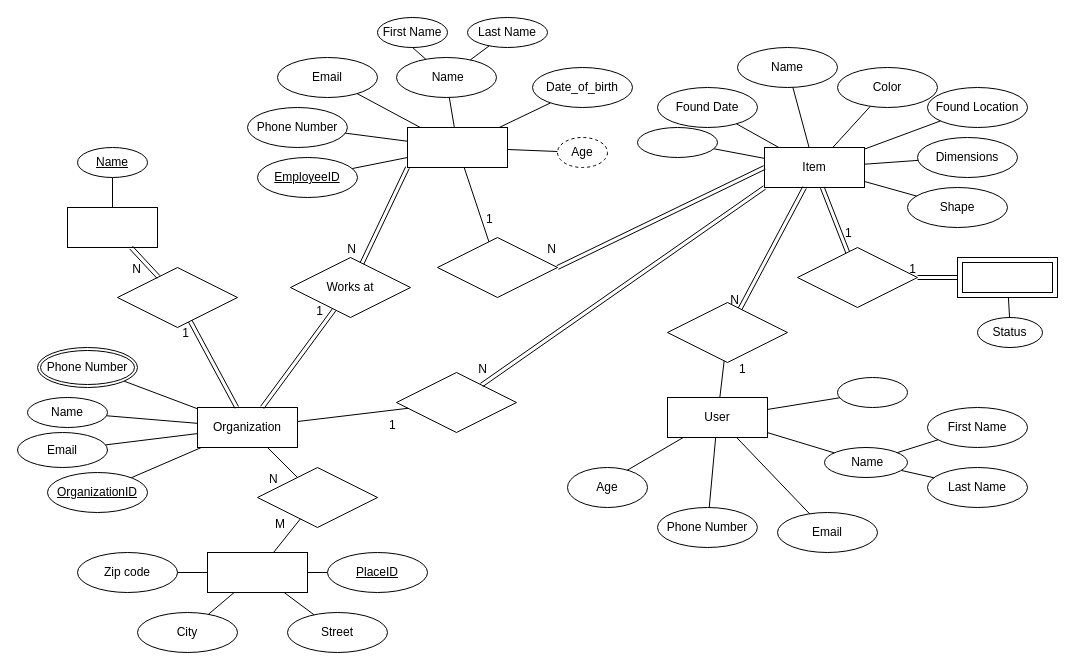
Some shapes in this 1075 by 670 pixel diagram are drawn without their labels. Here are the shapes that lost their labels. From the top down, the centre of each, then its label:
the point at 457,147: Employee
the point at 677,142: ItemID
the point at 112,227: Service type
the point at 497,267: Reported by
the point at 857,277: has been
the point at 1007,277: Action
the point at 177,297: has
the point at 727,332: Identifies
the point at 456,402: Inputs
the point at 872,392: UserID
the point at 317,497: Located in
the point at 257,572: Place
